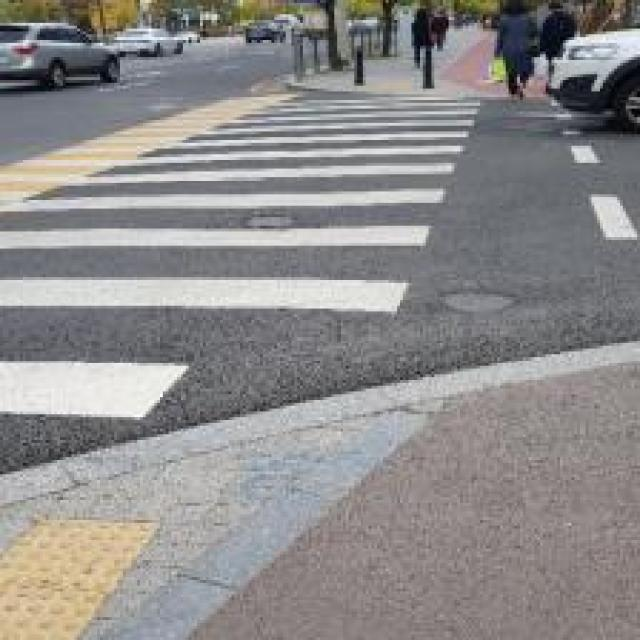walk-crossing: (128, 66, 483, 434)
